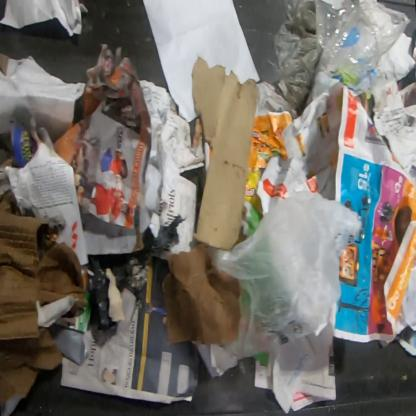cardboard: (0, 149, 85, 409), (191, 56, 258, 249)
soft_plastic: (209, 189, 362, 360), (314, 0, 413, 73), (273, 0, 323, 119)
